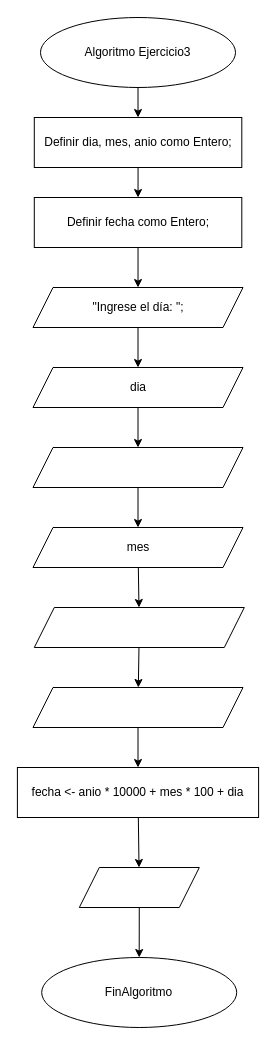
This 277x1045 diagram has some shape labels left out. Each missing label, with the centre of its shape:
"Ingrese el año: ";: the point at 138,627
"Ingrese el mes: ";: the point at 137,467
anio: the point at 137,707
fecha: the point at 138,887
